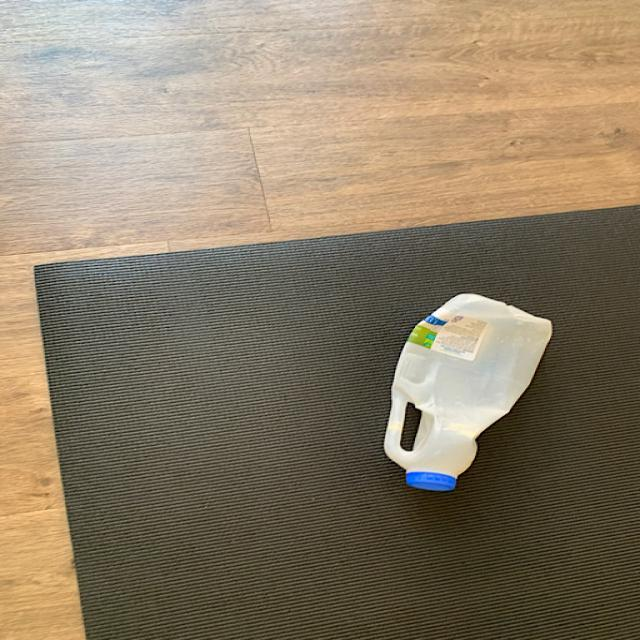litter: (381, 289, 554, 496)
